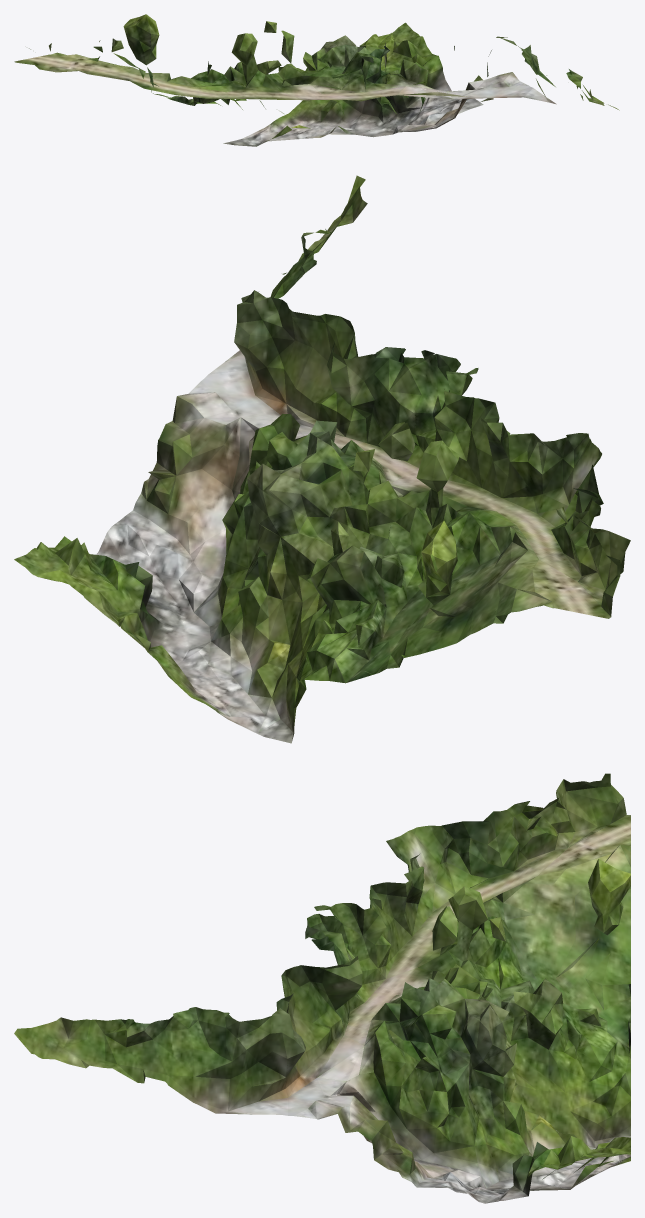
3 renders of one model, top to bottom at view 1: azimuth 30°, elevation 25°; view 2: azimuth 150°, elevation 25°; view 3: azimuth 270°, elevation 25°, orthographic. The views are drawn at different scales.
Bounding box in the file's own units: 104 × 41.87 × 104.
Materials: 3 (3 with a texture image).
